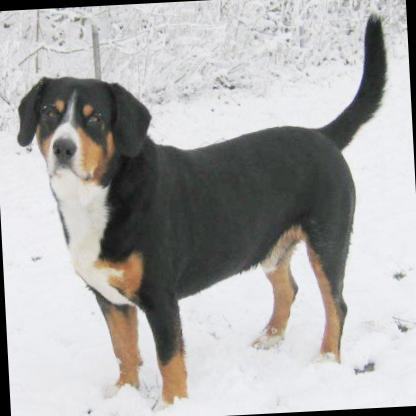EntleBucher: (7, 8, 407, 415)
